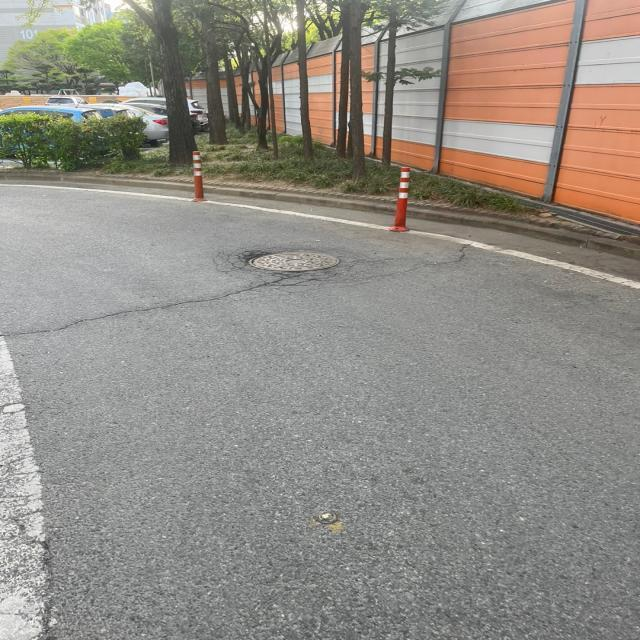manhole: (249, 252, 338, 271)
